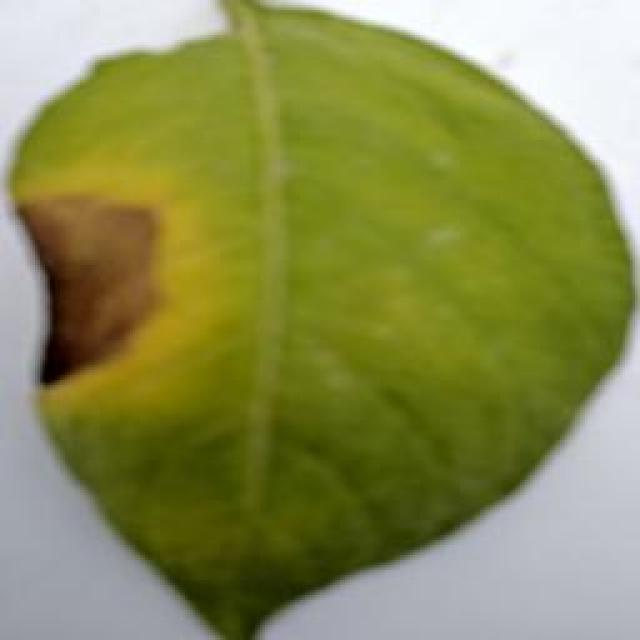Potato_Late_Blight: (7, 5, 618, 631)
